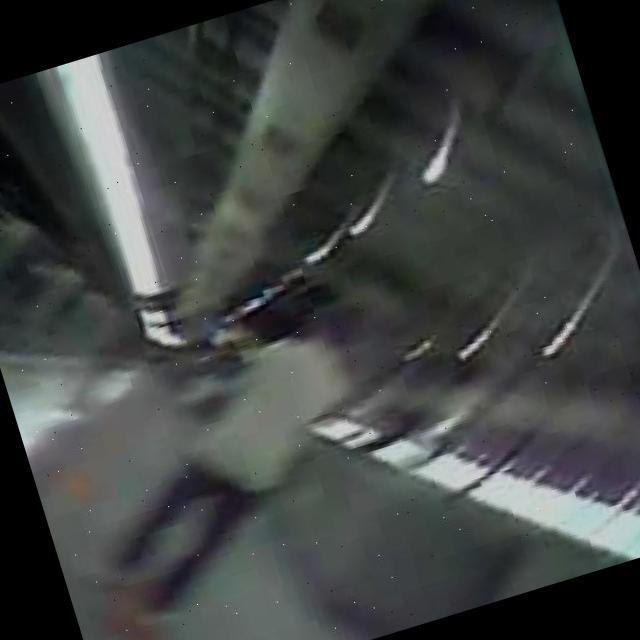person: (64, 292, 410, 610)
